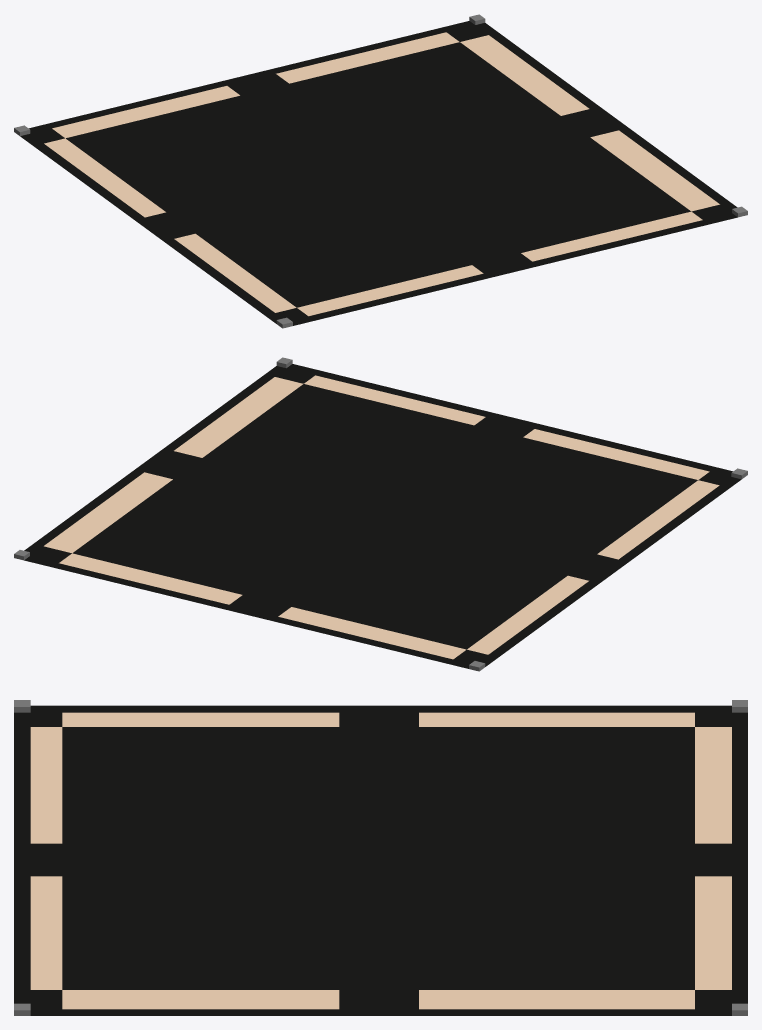
The model's file is Road_FourwayStop.fbx.
3 renders of one model, top to bottom at view 1: azimuth 30°, elevation 25°; view 2: azimuth 150°, elevation 25°; view 3: azimuth 270°, elevation 25°, orthographic. The views are drawn at different scales.
Parts seen in each view (by area): view 1: Fourway_Base; view 2: Fourway_Base; view 3: Fourway_Base.
Boxes of the visible parts, bbox=[...] form: Fourway_Base: bbox=[14, 14, 747, 328]; Fourway_Base: bbox=[14, 357, 747, 671]; Fourway_Base: bbox=[14, 700, 747, 1015].
Bounding box in the file's own units: 6 × 0.0495 × 6.
1 material, 1 textured.
